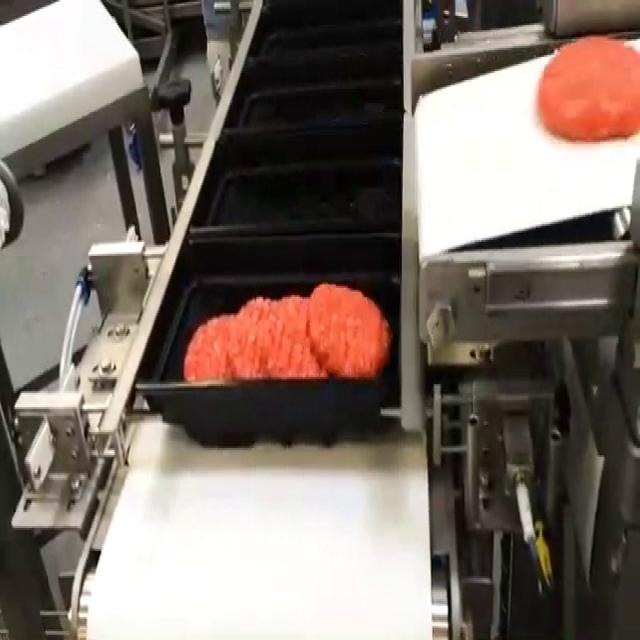4-hamburguer: (183, 284, 389, 377)
